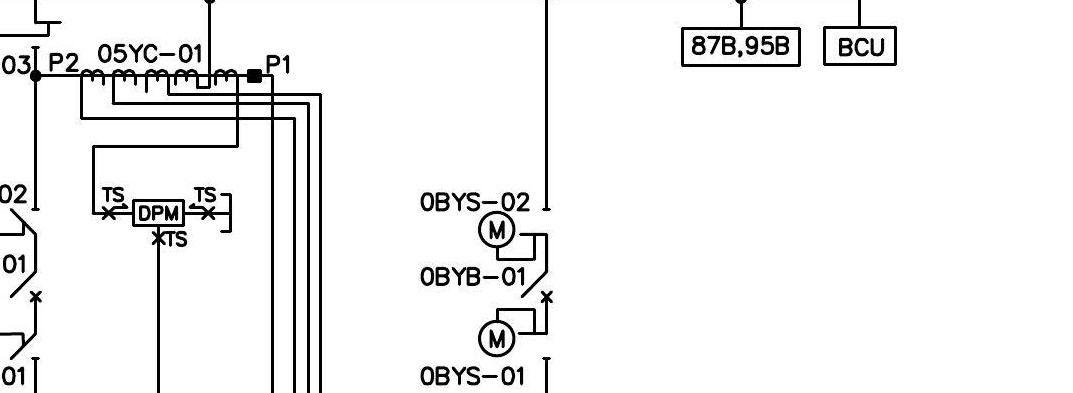115_1way_ds_w_motor: (477, 207, 551, 261), (477, 308, 552, 361)
115_breaker: (520, 270, 554, 304), (9, 270, 42, 303)
BCU: (822, 25, 898, 67)
DPM: (132, 199, 186, 227)
